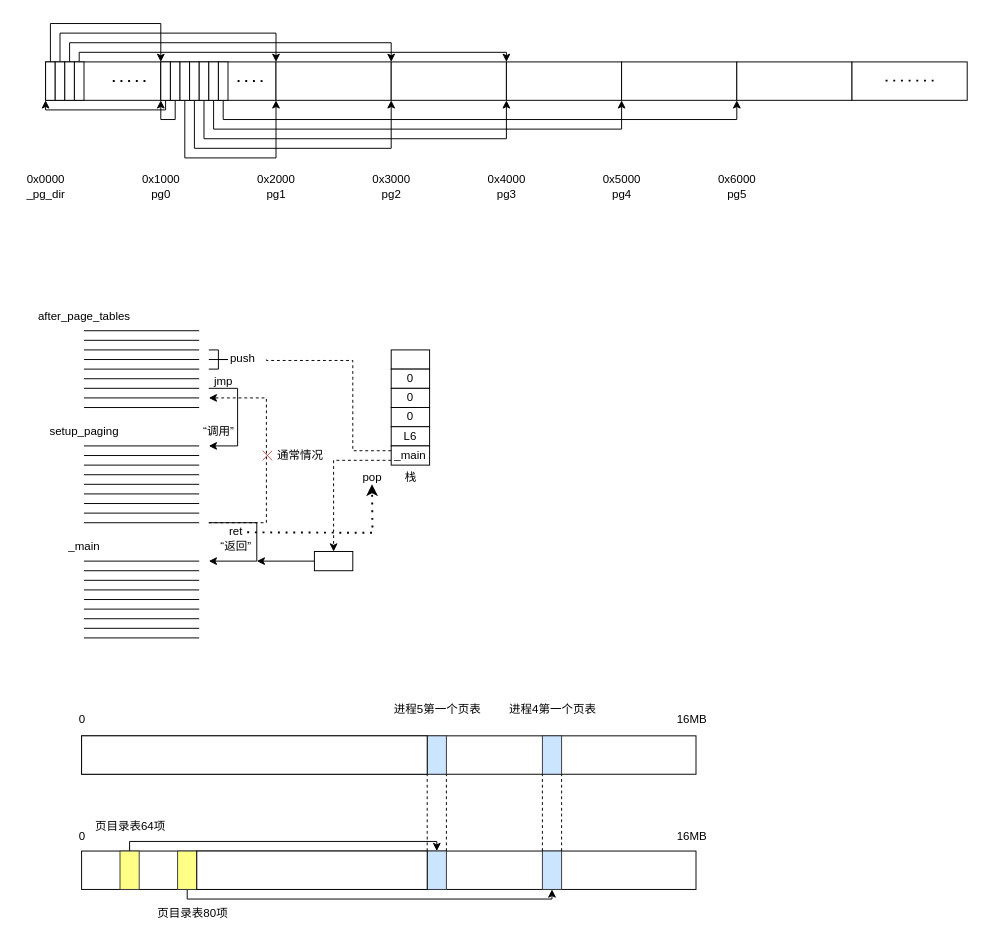
Some shapes in this 984 by 945 pixel diagram are drawn without their labels. The shapes that lost their labels are listed below. From the top down, each one's box as (x1, y1, x2, y2) in pixels, then its label:
(313, 551, 353, 571): EIP
(81, 735, 427, 774): 线性地址
(196, 850, 427, 889): 物理地址
